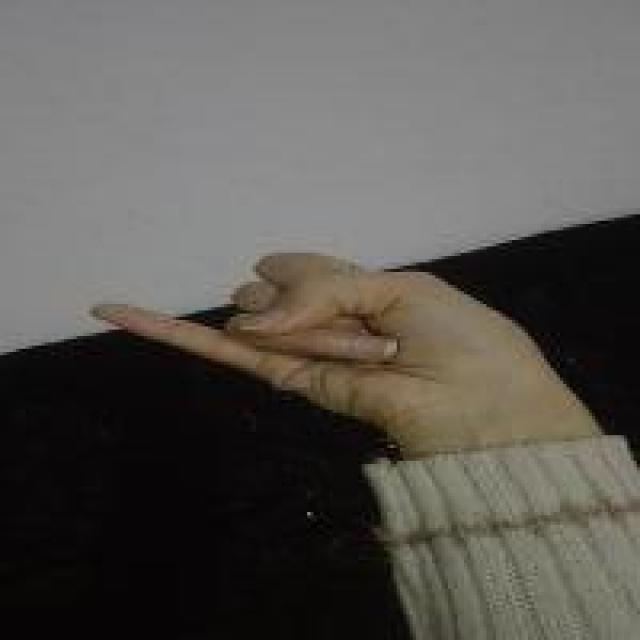J: (91, 250, 552, 432)
